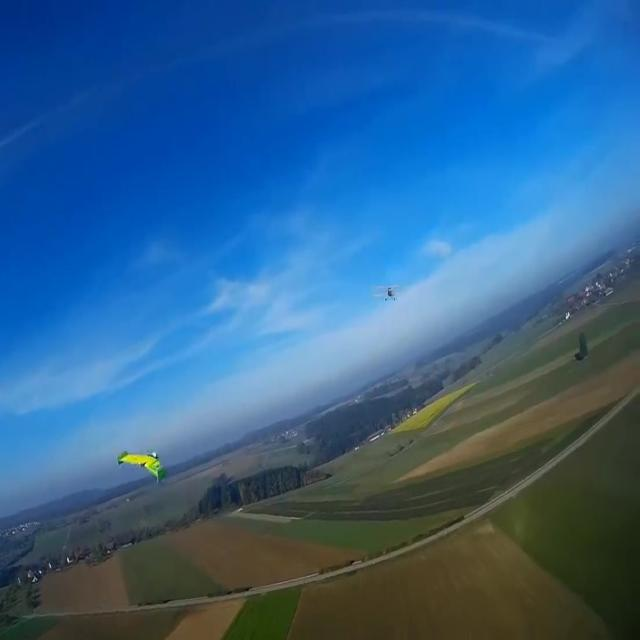iha: (115, 450, 167, 484), (369, 283, 410, 302)
